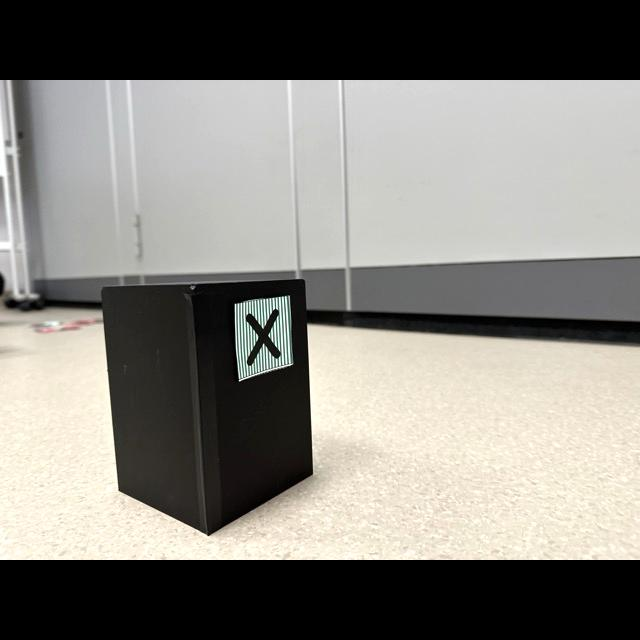X: (246, 309, 281, 366)
